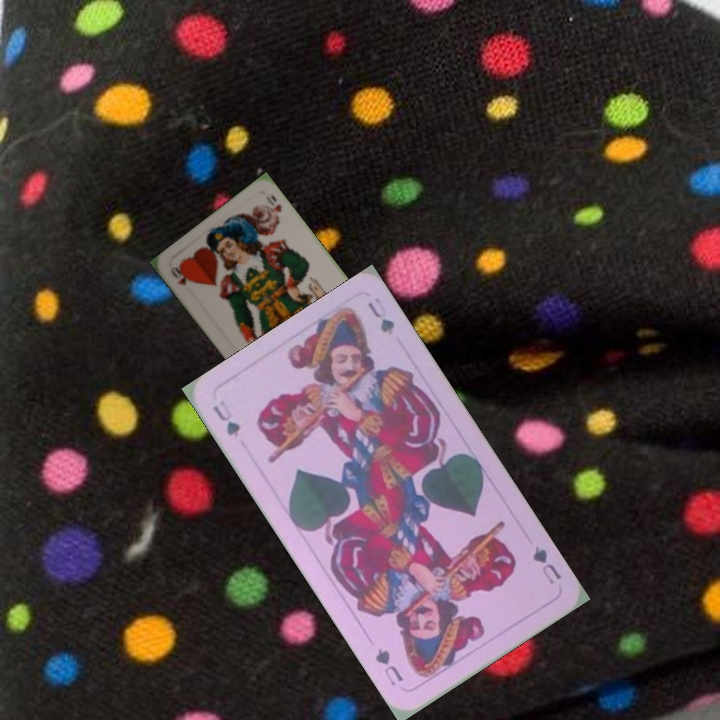GU: (528, 542, 564, 587), (209, 396, 244, 440)
HO: (167, 261, 189, 288)
